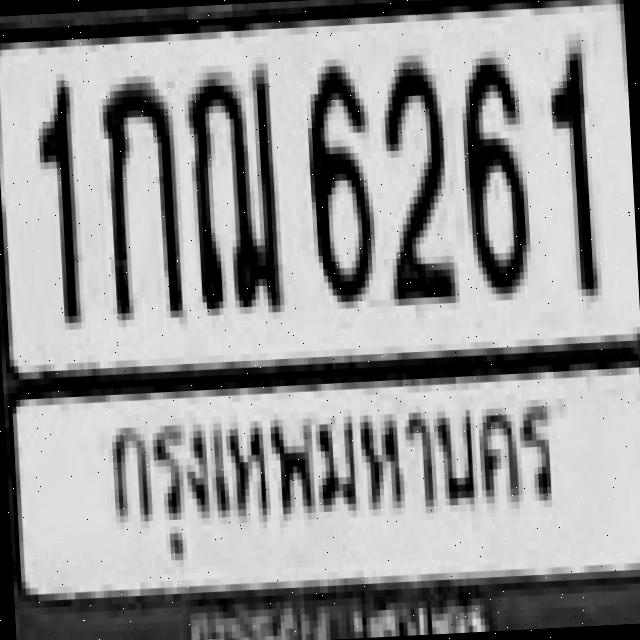1: (544, 39, 594, 290), (32, 77, 81, 321)
10GorGai: (96, 76, 178, 314)
2: (378, 54, 452, 300)
21ChorChoe: (182, 63, 280, 310)
6: (301, 58, 374, 297), (456, 50, 528, 289)
Bangkok: (92, 378, 570, 572)
